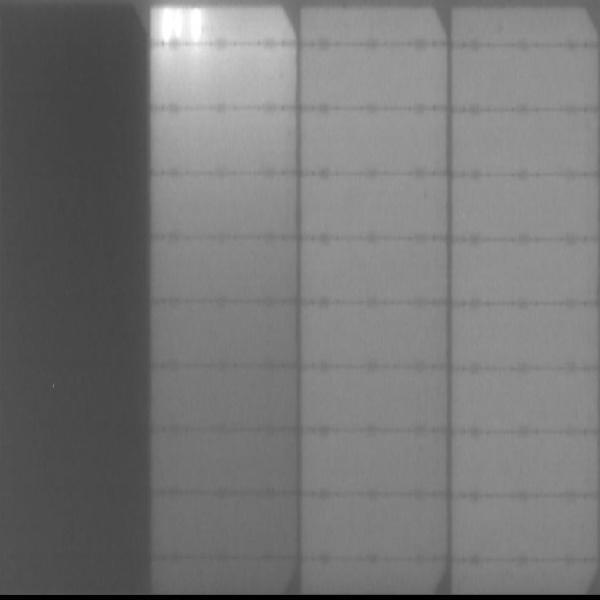hot_spot: (160, 6, 182, 41), (189, 8, 203, 43)
no_electricity: (1, 1, 146, 596)
